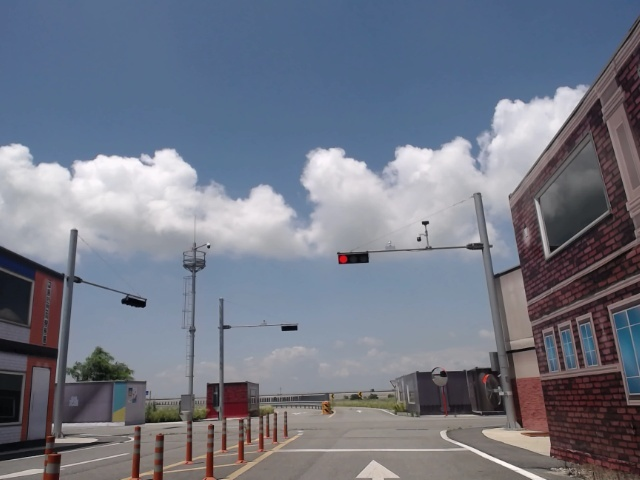red_3: (336, 253, 370, 264)
